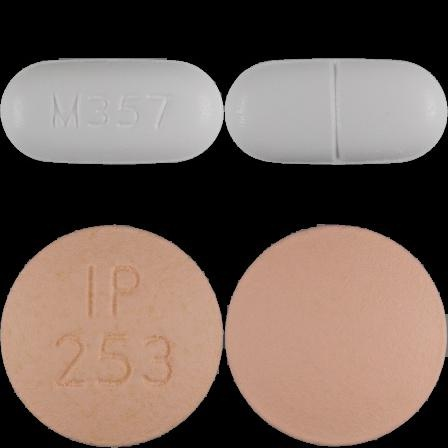45865-407: (0, 0, 224, 224)
